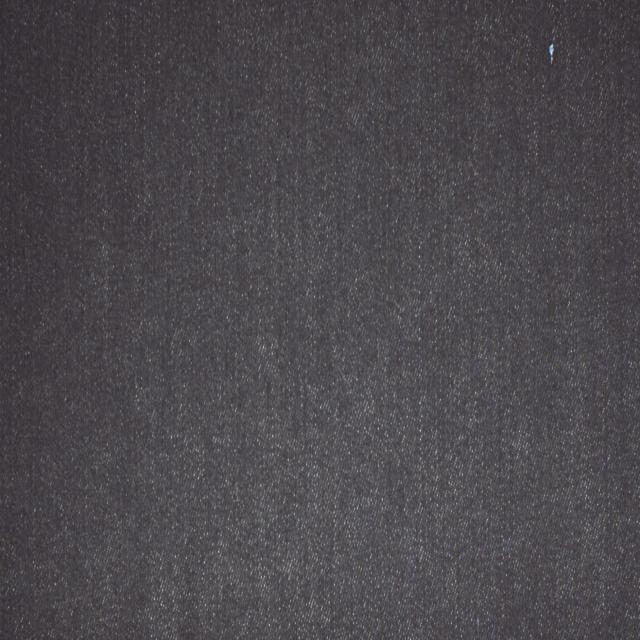Knot: (548, 40, 557, 64)
